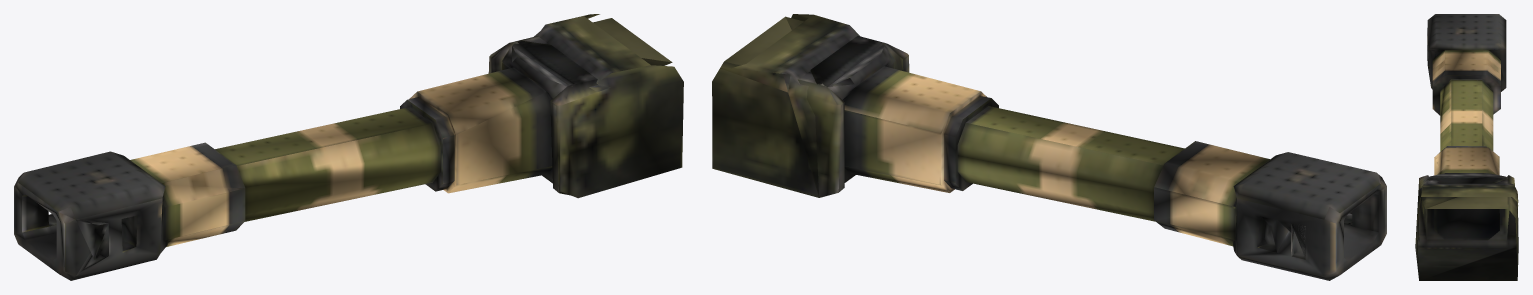
The model's file is gun.glb.
The picture shows the model from 3 angles, left to right: view 1: azimuth 30°, elevation 25°; view 2: azimuth 150°, elevation 25°; view 3: azimuth 270°, elevation 25°; orthographic projection. The views are drawn at different scales.
Parts seen in each view (by area): view 1: Gun_Pivot_Centered; view 2: Gun_Pivot_Centered; view 3: Gun_Pivot_Centered.
Part boxes in pixels (left/top/right/bottom): Gun_Pivot_Centered: left=14, top=14, right=683, bottom=280; Gun_Pivot_Centered: left=712, top=14, right=1386, bottom=280; Gun_Pivot_Centered: left=1415, top=14, right=1518, bottom=280.
Bounding box in the file's own units: 0.4888 × 0.0859 × 0.1055.
Materials: 1 (1 with a texture image).
